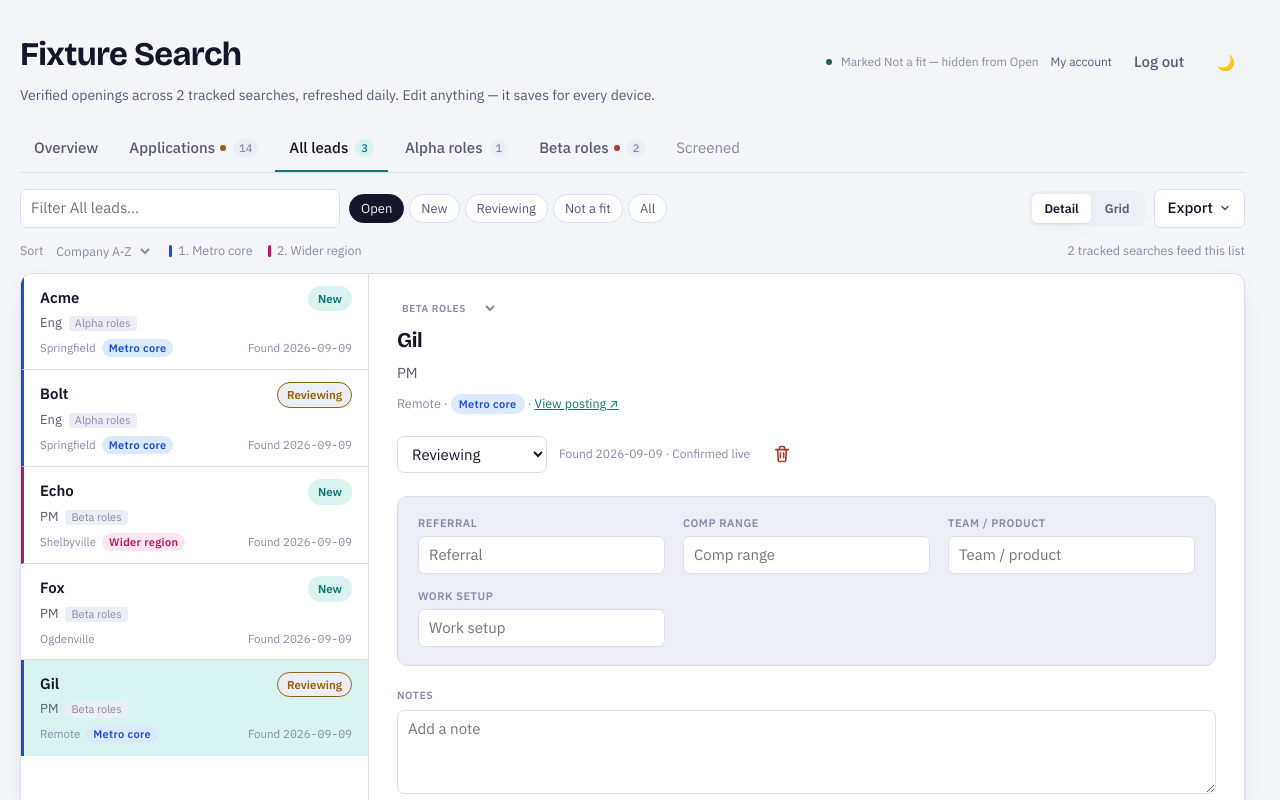
it: marking a lead so it leaves the chip on screen › selects the row before it when the last row leaves
Select "Not a fit" in the dropdown named "Status" at point(472, 454), box x1=397 y1=436 x2=547 y2=473
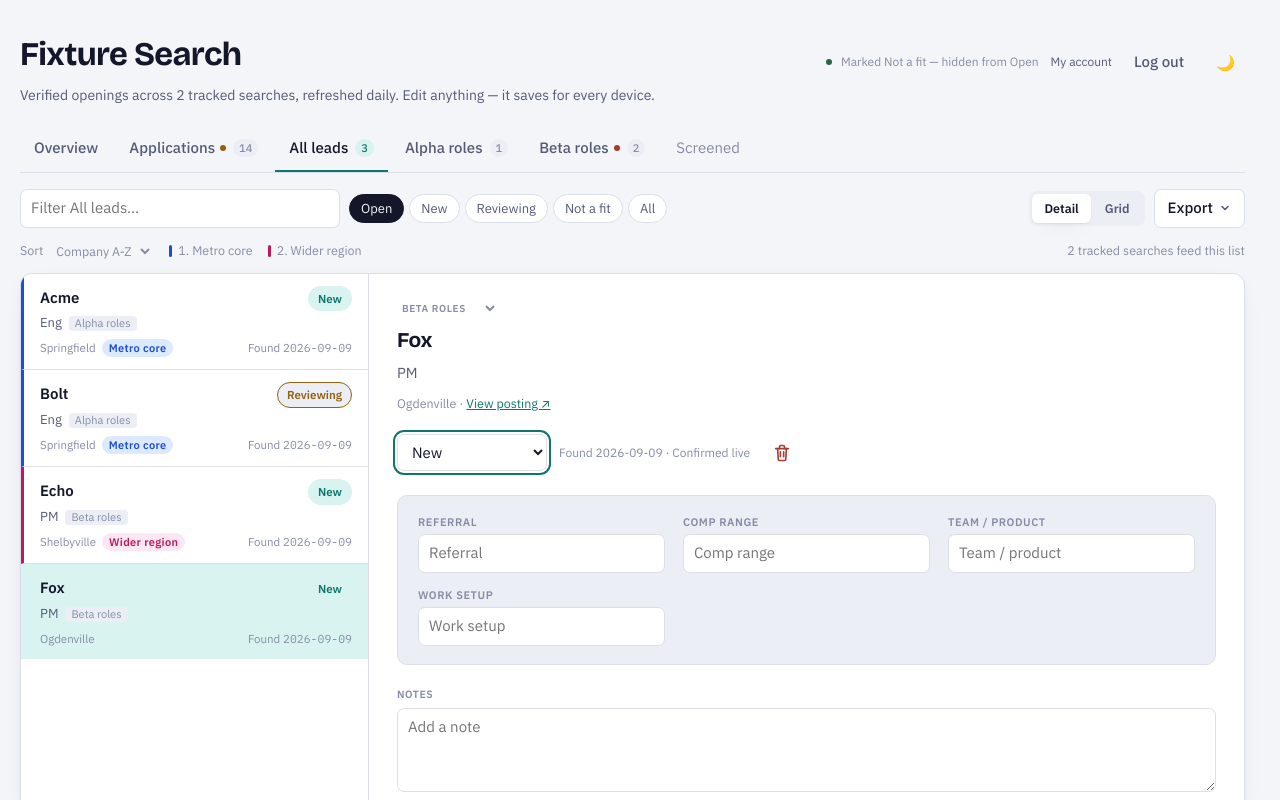
Expected: the text "Fox" is shown, x1=40 y1=578 x2=65 y2=597
Expected: the button "Gil" no longer shows "Gil"
